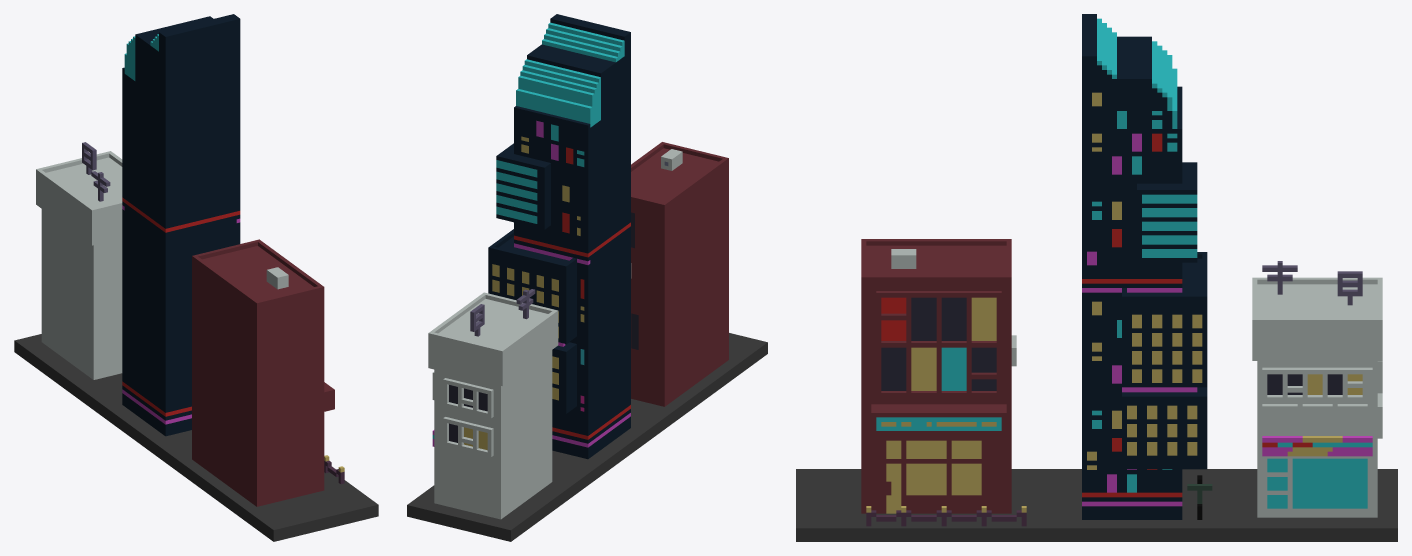
Rendered from SM_Environment_Street4.fbx.
3 views of the same model, side by side, from view 1: azimuth 30°, elevation 25°; view 2: azimuth 150°, elevation 25°; view 3: azimuth 270°, elevation 25° (orthographic). The views are drawn at different scales.
Parts seen in each view (by area): view 1: SM_Environment_Street4; view 2: SM_Environment_Street4; view 3: SM_Environment_Street4.
Boxes of the visible parts, left/top/right/bottom form: SM_Environment_Street4: left=14, top=14, right=378, bottom=541; SM_Environment_Street4: left=407, top=14, right=767, bottom=541; SM_Environment_Street4: left=796, top=14, right=1397, bottom=541.
Size of the model in its own units: 560 by 2100 by 2400.
5 materials, 1 textured.
